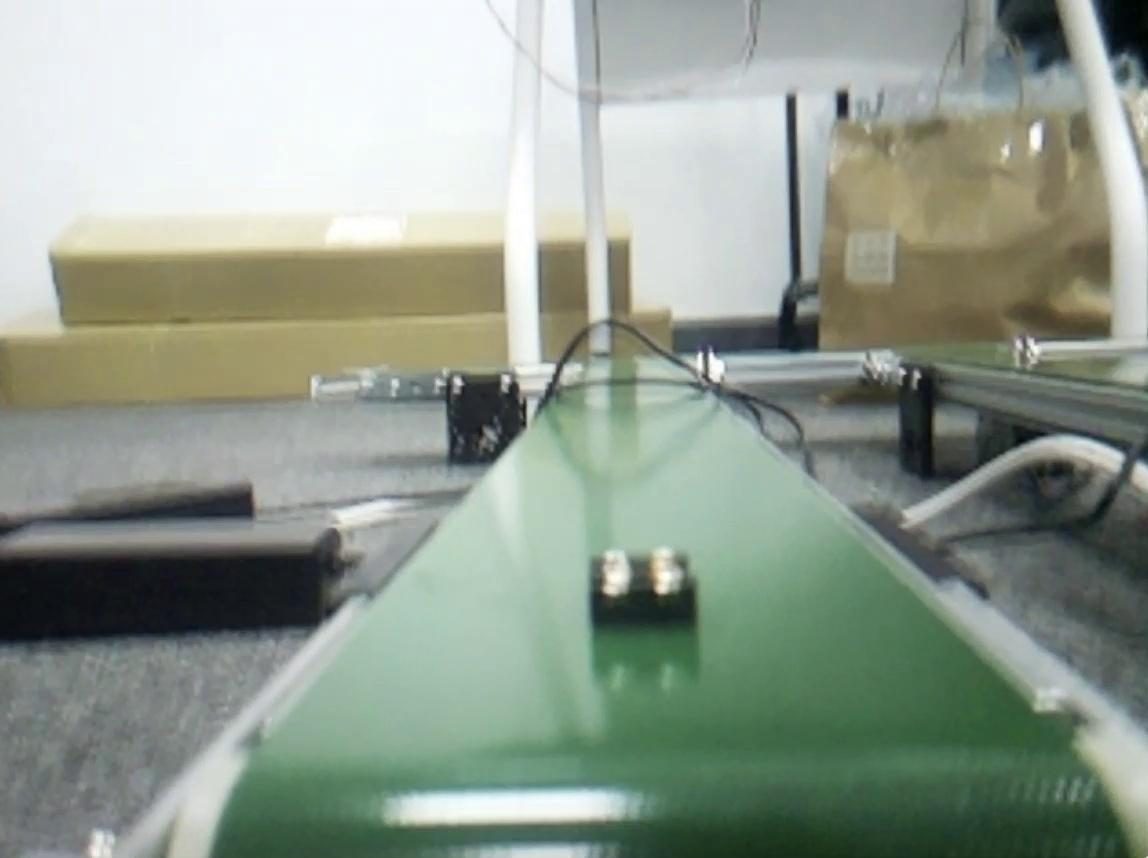inductor: (592, 550, 697, 632)
